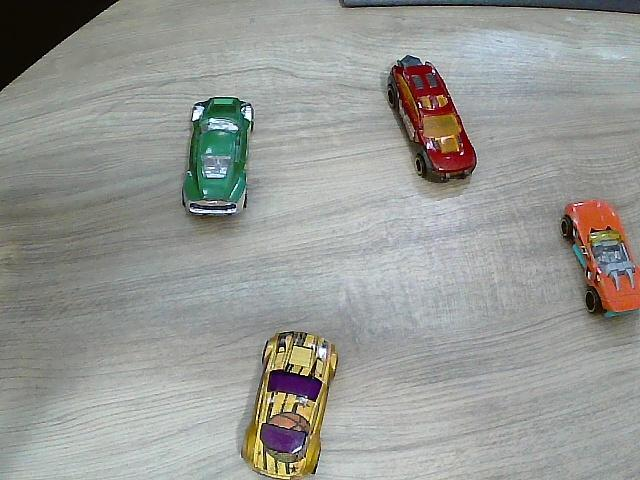Carro: (241, 333, 339, 479), (389, 56, 477, 184), (560, 200, 639, 315), (183, 97, 253, 217)
